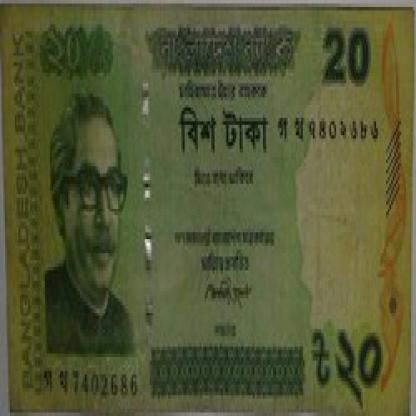Twenty: (304, 319, 390, 412), (168, 86, 273, 160), (311, 17, 381, 100), (40, 14, 118, 80)
